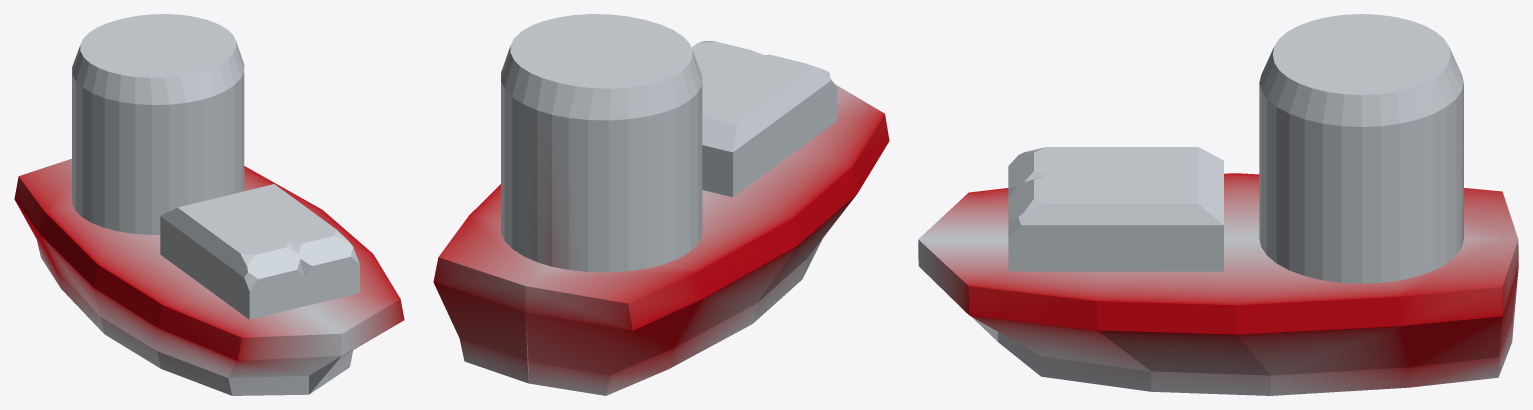
The model's file is Boat.fbx.
The picture shows the model from 3 angles, left to right: view 1: azimuth 30°, elevation 25°; view 2: azimuth 150°, elevation 25°; view 3: azimuth 270°, elevation 25°; orthographic projection. The views are drawn at different scales.
Parts seen in each view (by area): view 1: Plane; view 2: Plane; view 3: Plane.
Part boxes in pixels (x1,y1,x2,y2): Plane: (14,14,404,395); Plane: (433,14,889,395); Plane: (918,14,1518,395).
Bounding box in the file's own units: 301 × 294 × 557.
